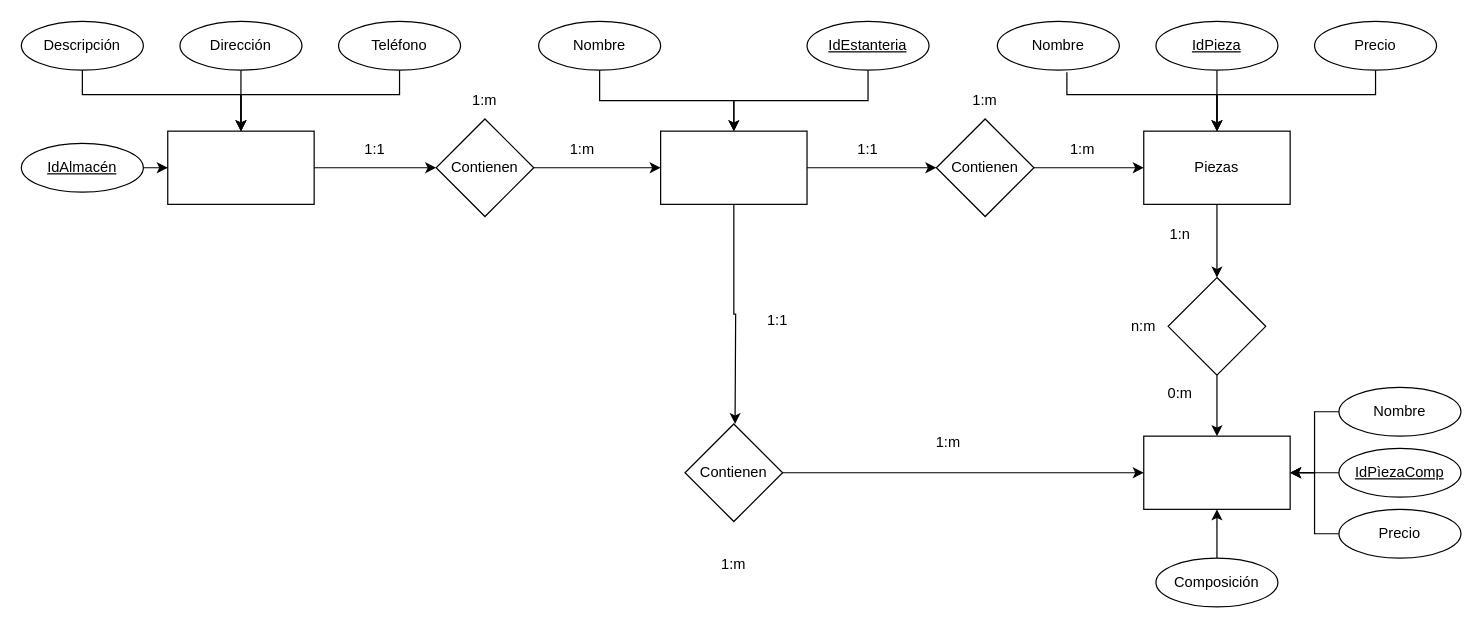
Some shapes in this 1482 by 628 pixel diagram are drawn without their labels. The centre of each missing label's shape, as x and y in pixels:
Almacenes: the point at 240,167
Estanterías: the point at 733,167
Forman: the point at 1216,325
PiezasCompuestas: the point at 1216,472
